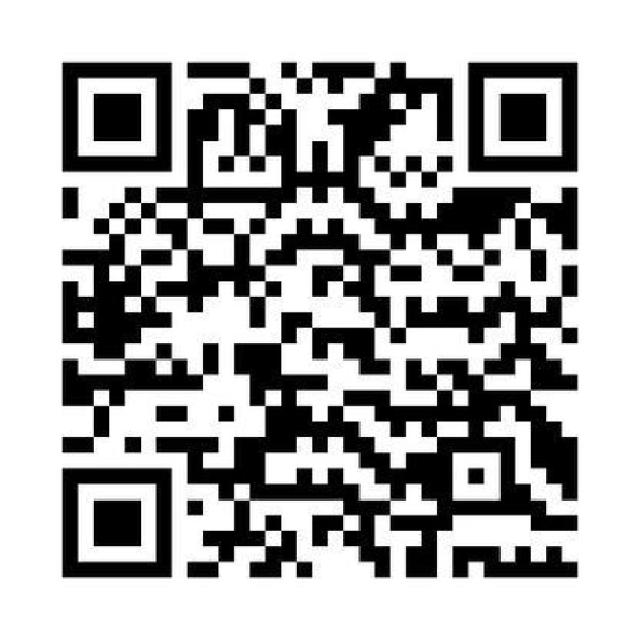QRCode: (45, 47, 593, 593)
